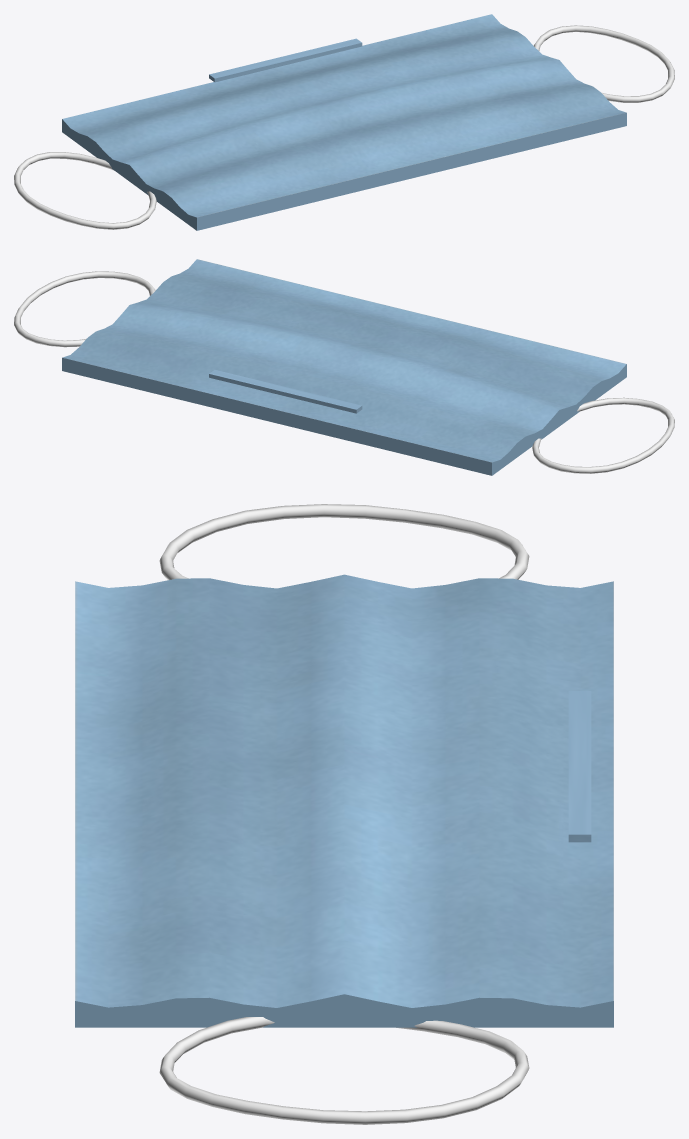
The model's file is FaceMask.obj.
The picture shows the model from 3 angles, top to bottom: view 1: azimuth 30°, elevation 25°; view 2: azimuth 150°, elevation 25°; view 3: azimuth 270°, elevation 25°; orthographic projection. The views are drawn at different scales.
Parts seen in each view (by area): view 1: Mask, EarLoop; view 2: Mask, EarLoop; view 3: Mask, EarLoop.
Boxes of the visible parts, bbox=[...] form: Mask: bbox=[62, 14, 626, 230]; EarLoop: bbox=[14, 25, 674, 229]; Mask: bbox=[62, 259, 626, 475]; EarLoop: bbox=[14, 271, 674, 473]; Mask: bbox=[75, 574, 613, 1027]; EarLoop: bbox=[159, 504, 529, 1124].
Size of the model in its own units: 0.255 by 0.0115 by 0.095.
Materials: 2 (1 with a texture image).
